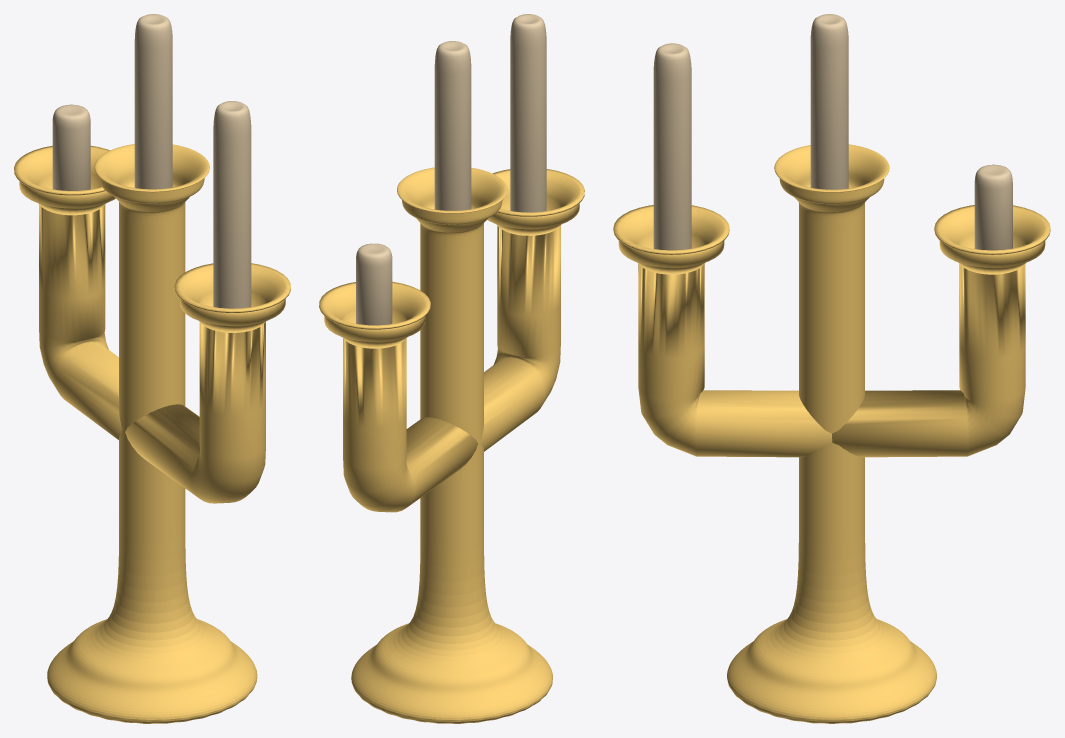
The model's file is svecha.fbx.
The picture shows the model from 3 angles, left to right: view 1: azimuth 30°, elevation 25°; view 2: azimuth 150°, elevation 25°; view 3: azimuth 270°, elevation 25°; orthographic projection. The views are drawn at different scales.
Parts seen in each view (by area): view 1: Cylinder, Cylinder.001, Cylinder.002, Cylinder.003, Cylinder.004; view 2: Cylinder, Cylinder.001, Cylinder.002, Cylinder.003, Cylinder.004; view 3: Cylinder, Cylinder.001, Cylinder.002, Cylinder.003, Cylinder.004.
Part boxes in pixels (x1,y1,x2,y2): Cylinder: (47,144,257,723); Cylinder.001: (14,145,290,503); Cylinder.002: (213,101,251,308); Cylinder.003: (134,14,172,189); Cylinder.004: (52,104,90,190); Cylinder: (351,167,552,723); Cylinder.001: (319,169,584,512); Cylinder.002: (510,14,546,212); Cylinder.003: (434,41,471,210); Cylinder.004: (356,243,392,325); Cylinder: (727,144,936,723); Cylinder.001: (613,205,1050,457); Cylinder.002: (653,43,691,250); Cylinder.003: (810,14,848,189); Cylinder.004: (974,164,1012,250).
Size of the model in its own units: 2.56 by 9.02 by 5.34.
